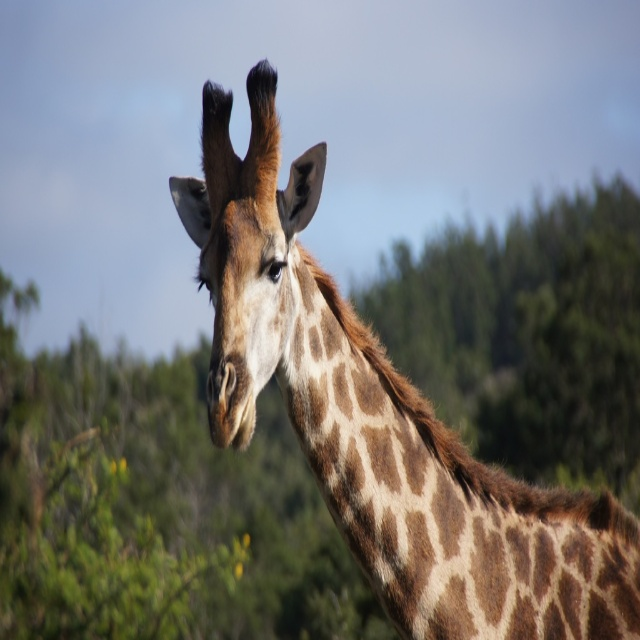Giraffe: (172, 70, 640, 619)
